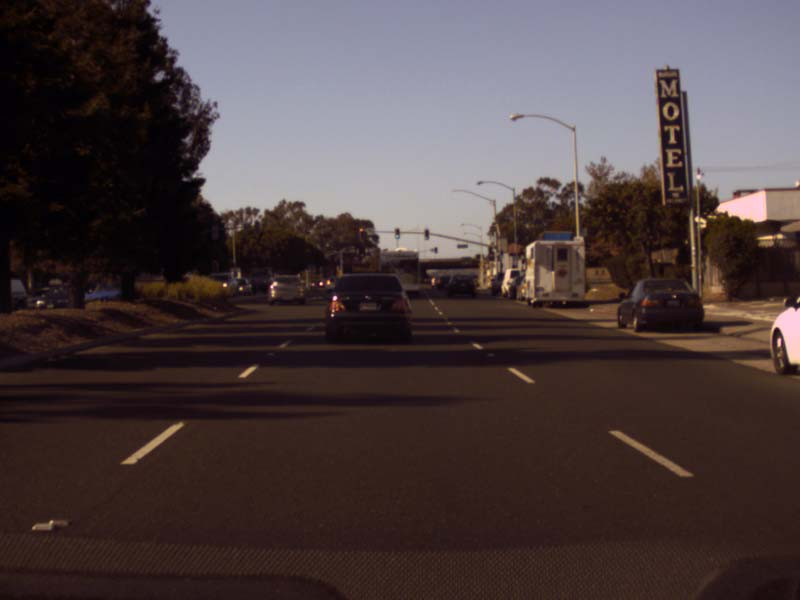Green: (394, 228, 400, 238), (424, 228, 428, 239), (498, 255, 503, 260)
Red: (357, 227, 363, 232), (360, 254, 364, 257)
